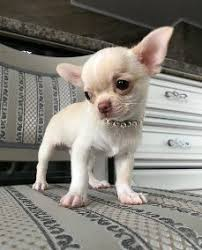chihuahua: (38, 17, 182, 222)
